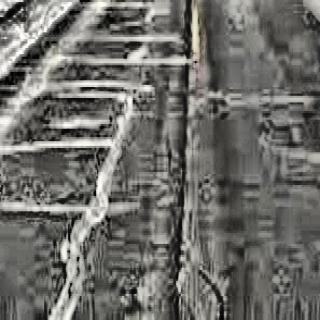alligator-crack: (46, 94, 134, 320)
crack: (172, 0, 195, 320), (193, 262, 230, 320)
pothole: (258, 112, 306, 151)
